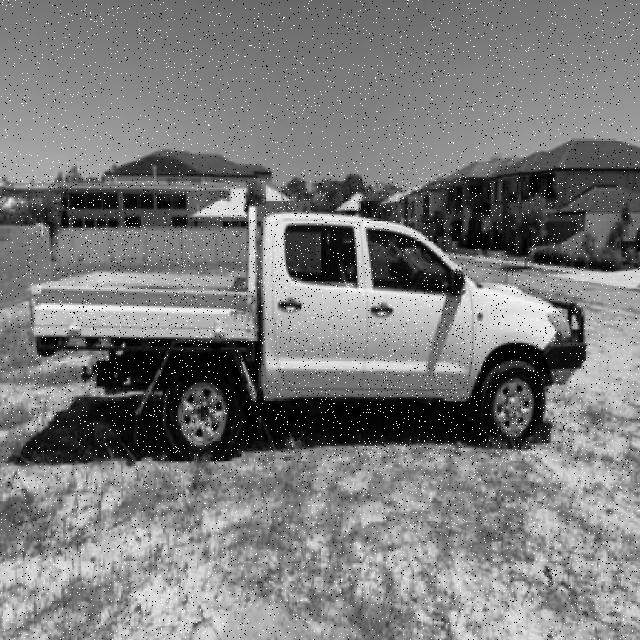Pickup- Utility: (26, 174, 587, 461)
